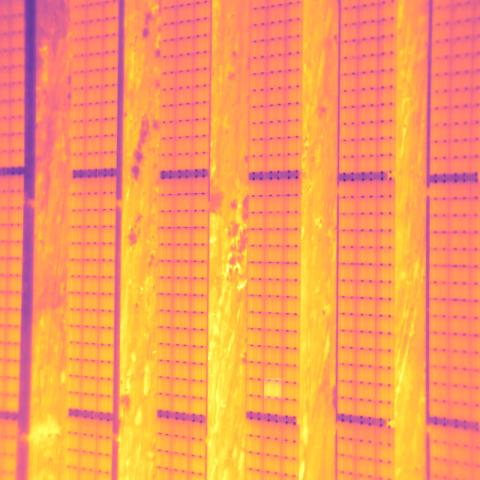fault: (264, 378, 282, 399)
